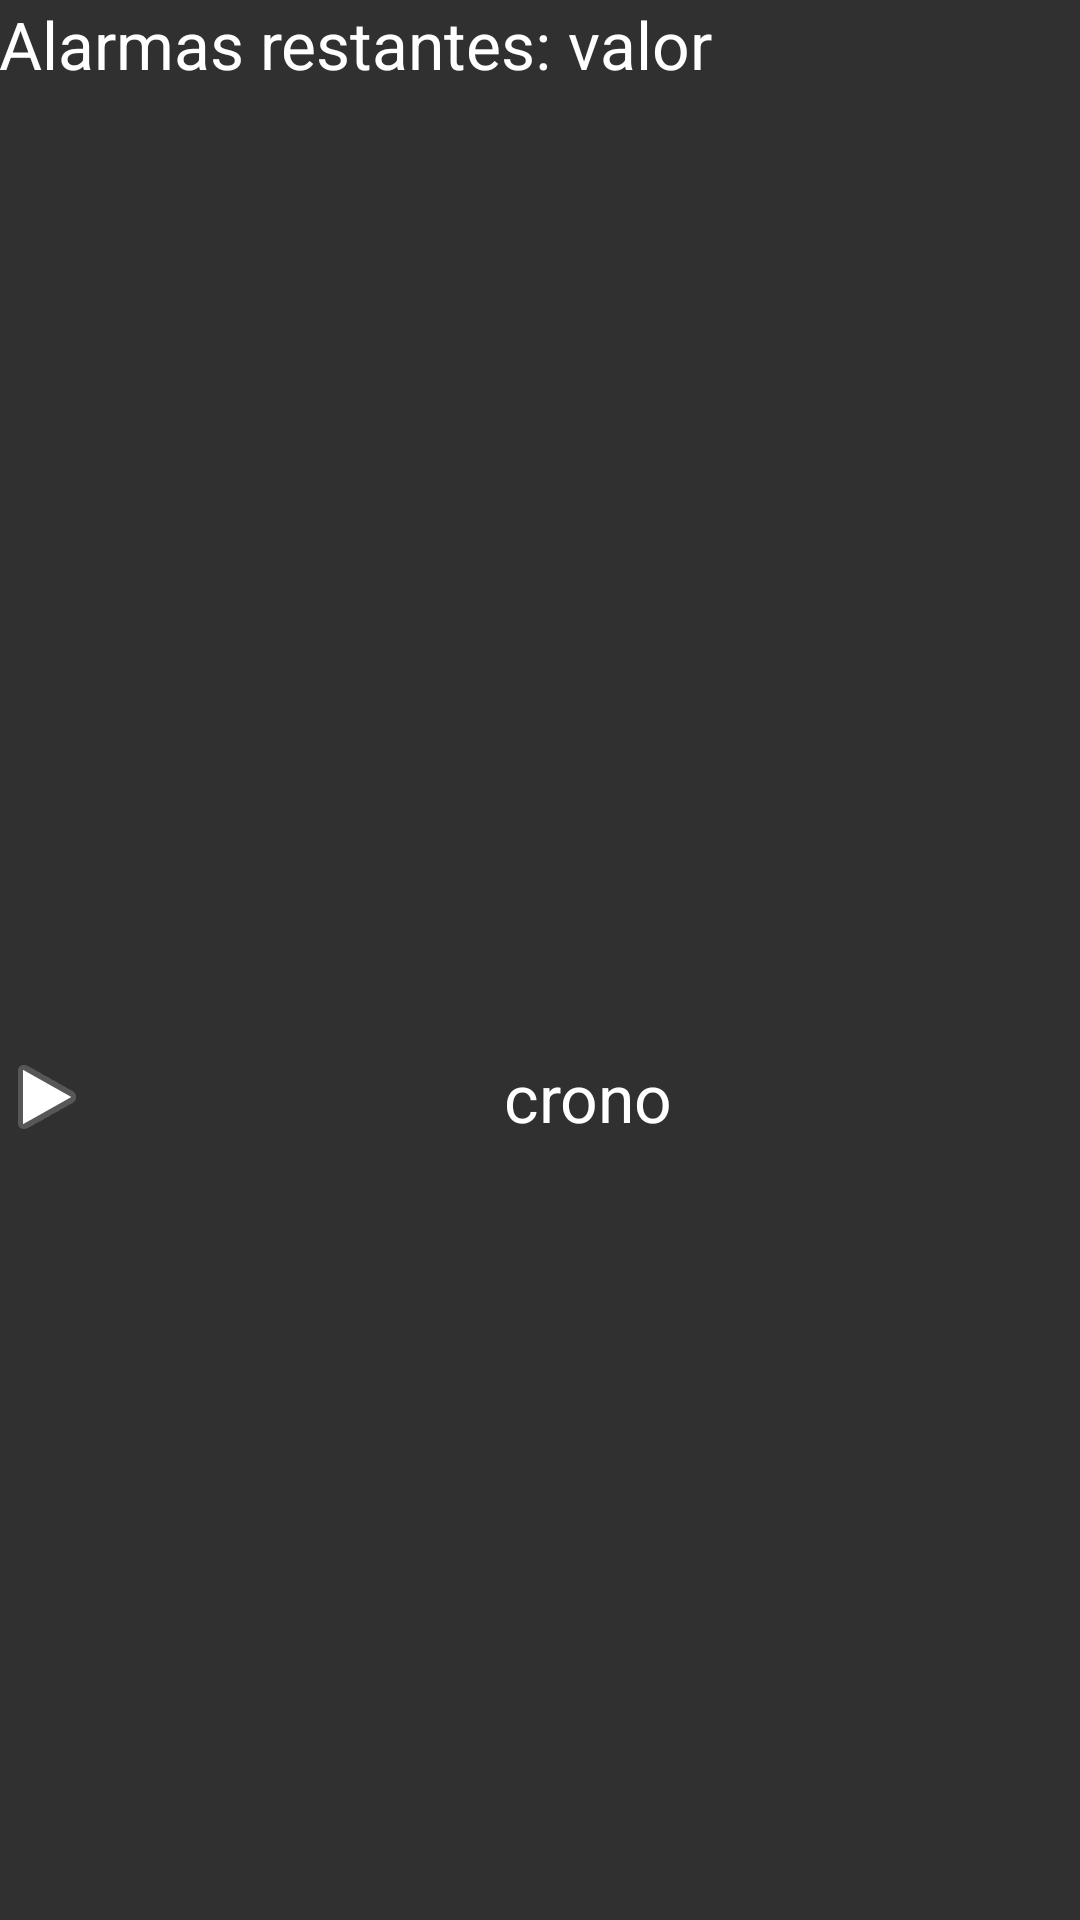

Icon click points for this 1080x1920 phone screenshot, format [x,y]:
play: [47,1097]
